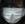with_mask: (1, 2, 25, 24)
